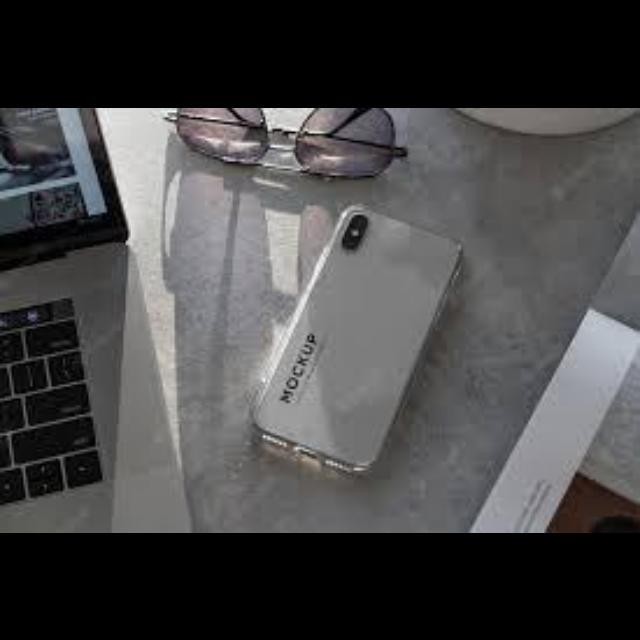Phone: (251, 209, 465, 471)
